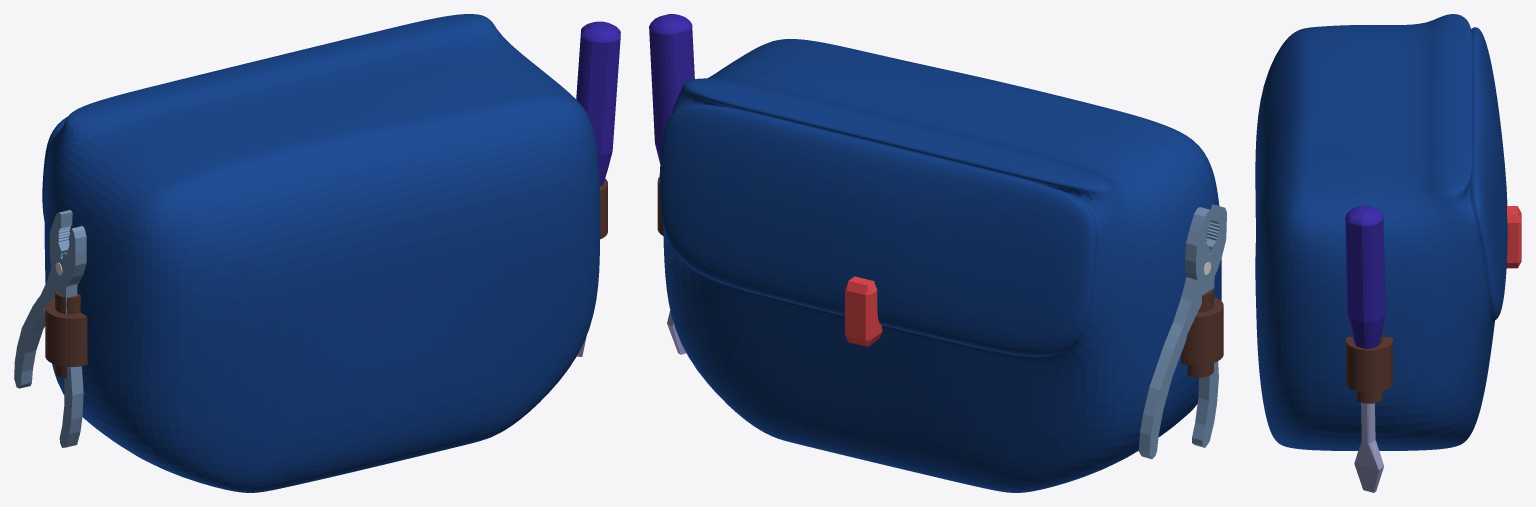
Rendered from kit.glb.
3 views of the same model, side by side, from view 1: azimuth 30°, elevation 25°; view 2: azimuth 150°, elevation 25°; view 3: azimuth 270°, elevation 25° (orthographic). The views are drawn at different scales.
Parts seen in each view (by area): view 1: taska, Cube.001, Plane.001, Plane, poutko1; view 2: taska, Plane.001, Cube.001, Plane, preska, poutko1; view 3: taska, Cube.001, poutko1.001, Cube, preska, dirkapoutko1.001.
Part boxes in pixels (bbox=[...]): taska: bbox=[42, 14, 600, 492]; Cube.001: bbox=[576, 21, 620, 186]; Plane.001: bbox=[14, 226, 86, 388]; Plane: bbox=[49, 210, 83, 447]; poutko1: bbox=[45, 301, 87, 366]; taska: bbox=[659, 39, 1221, 492]; Plane.001: bbox=[1138, 204, 1226, 459]; Cube.001: bbox=[649, 14, 694, 163]; Plane: bbox=[1185, 207, 1218, 447]; preska: bbox=[845, 276, 882, 346]; poutko1: bbox=[1181, 297, 1223, 365]; taska: bbox=[1255, 14, 1507, 450]; Cube.001: bbox=[1345, 205, 1385, 348]; poutko1.001: bbox=[1346, 337, 1392, 392]; Cube: bbox=[1354, 402, 1383, 492]; preska: bbox=[1506, 206, 1521, 268]; dirkapoutko1.001: bbox=[1356, 329, 1382, 403].
Size of the model in its own units: 24.08 by 14.13 by 11.05.
